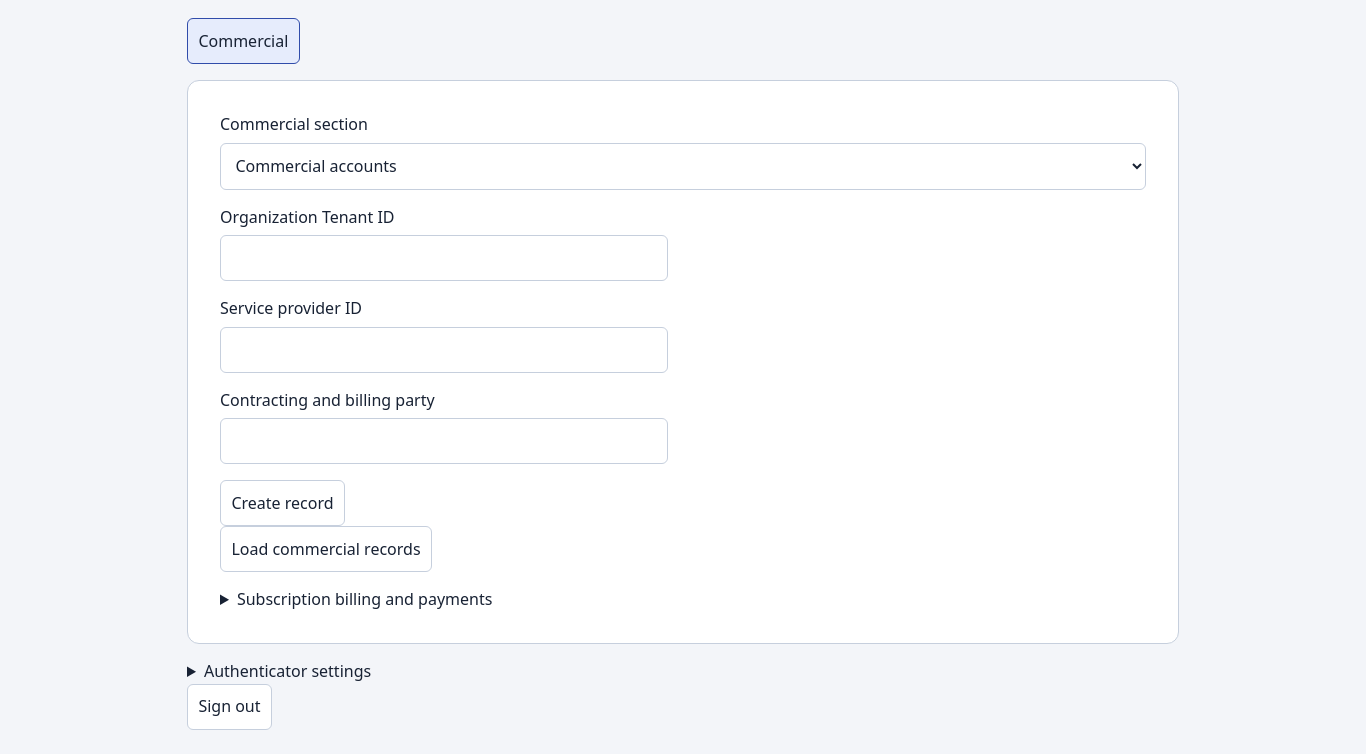
Test: opens only the assigned workspace without service catalogue access
This screenshot has width=1366, height=754.
(page scrolled)
Expected: the navigation bar reads "Commercial", [187,18,300,64]
Click the button "Sign out". click: click(229, 707)
box: [187,684,272,730]
(page scrolled)
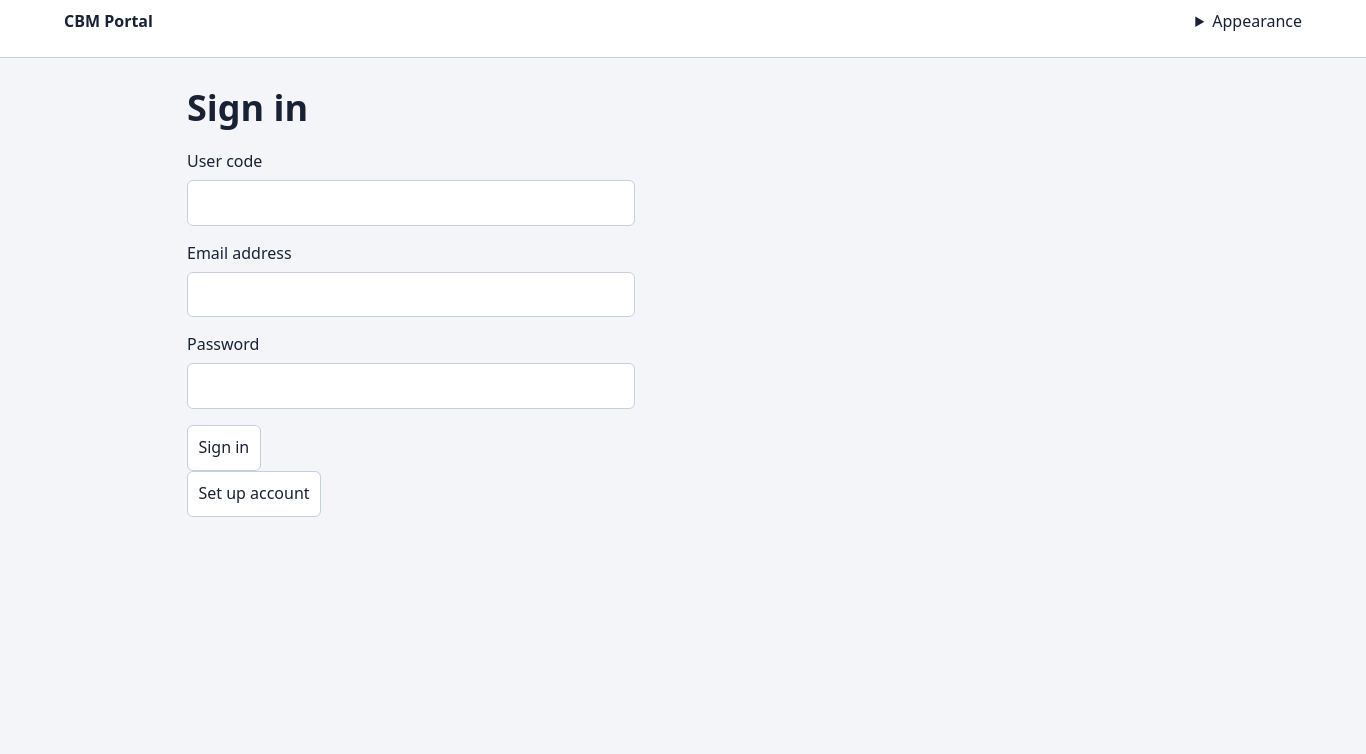
Expected: the heading "Sign in" is shown, [187,83,308,132]
